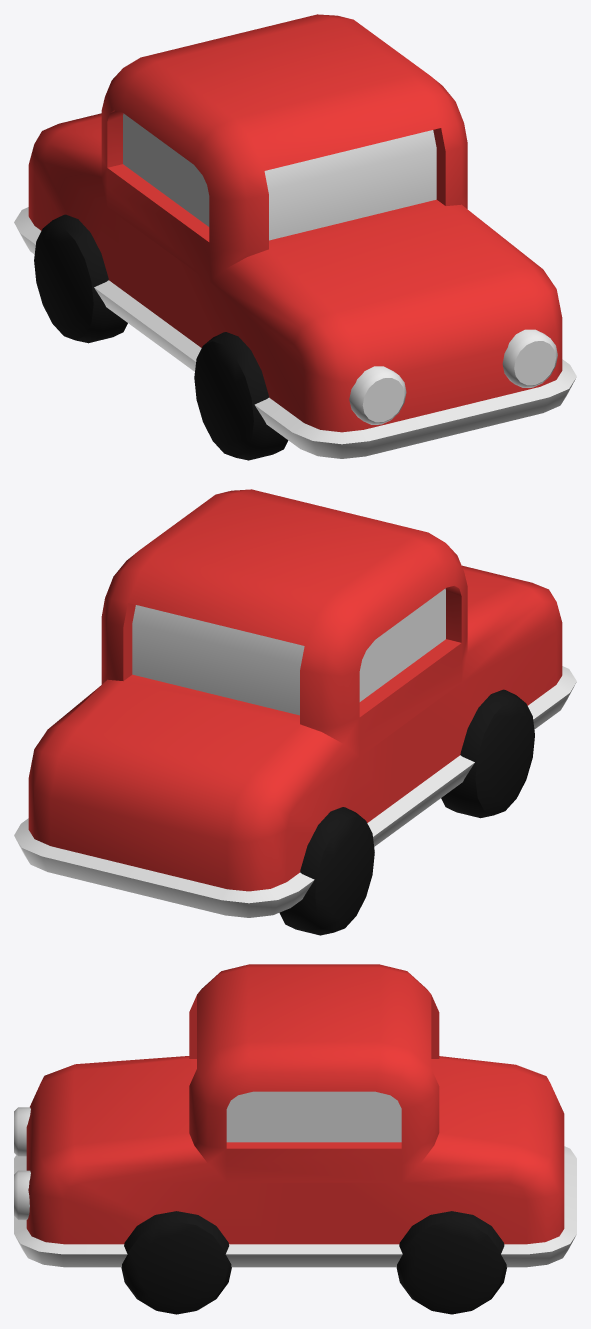
Rendered from car2.fbx.
3 renders of one model, top to bottom at view 1: azimuth 30°, elevation 25°; view 2: azimuth 150°, elevation 25°; view 3: azimuth 270°, elevation 25°, orthographic. The views are drawn at different scales.
Visible parts, largest first — view 1: Cube; view 2: Cube; view 3: Cube.
Part boxes in pixels (<box>): Cube: <box>14,14,576,460</box>; Cube: <box>14,489,576,935</box>; Cube: <box>14,964,576,1314</box>.
Bounding box in the file's own units: 2.31 × 2.25 × 4.5.
